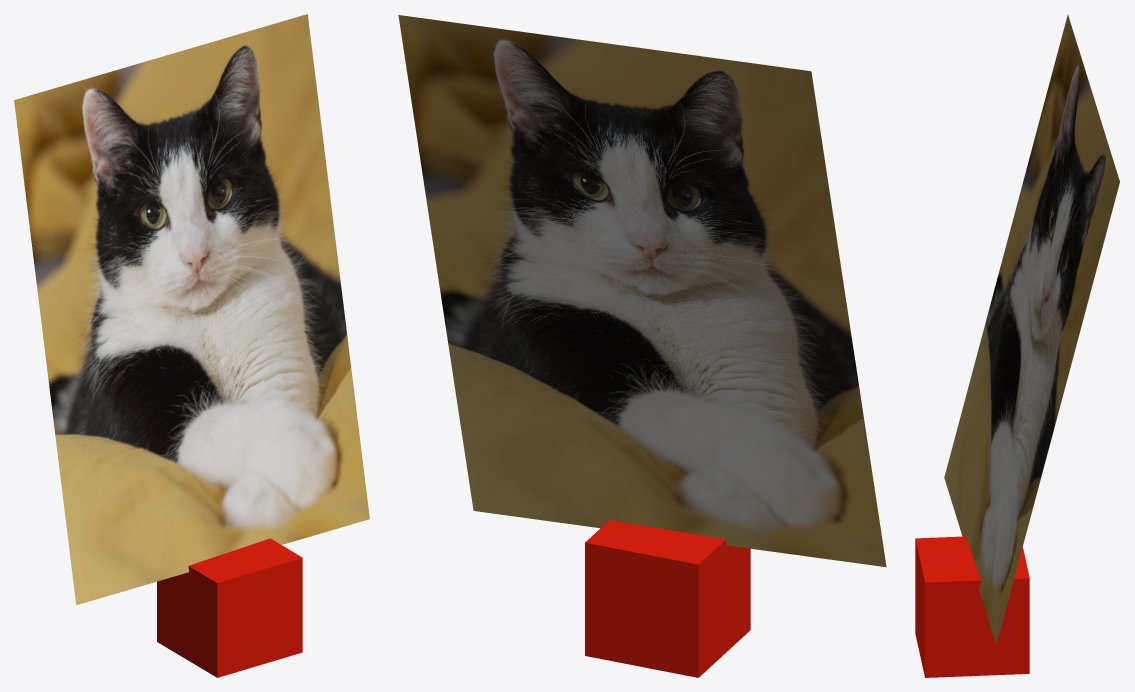
Rendered from gato2D.gltf.
3 renders of one model, left to right at view 1: azimuth 30°, elevation 25°; view 2: azimuth 150°, elevation 25°; view 3: azimuth 270°, elevation 25°, orthographic. The views are drawn at different scales.
Parts seen in each view (by area): view 1: Mesh_0, Cube; view 2: Mesh_0.001, Cube; view 3: Mesh_0, Cube.
Boxes of the visible parts, <box> form: Mesh_0: <box>14,14,369,604</box>; Cube: <box>157,538,302,677</box>; Mesh_0.001: <box>398,15,886,567</box>; Cube: <box>585,520,750,677</box>; Mesh_0: <box>944,14,1119,644</box>; Cube: <box>915,536,1029,677</box>.
Bounding box in the file's own units: 3.54 × 5.85 × 1.95.
3 materials, 2 textured.
